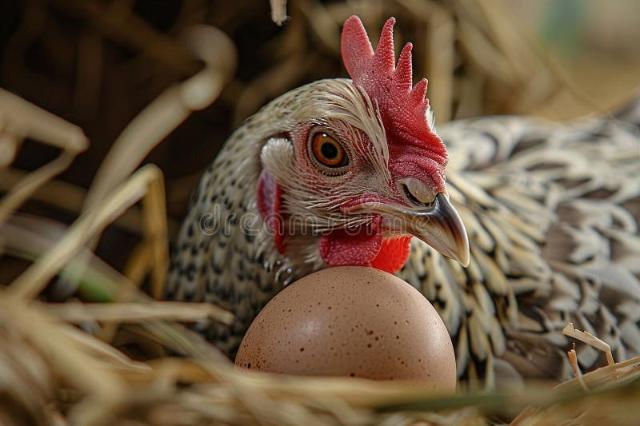Chicken: (170, 15, 640, 385)
